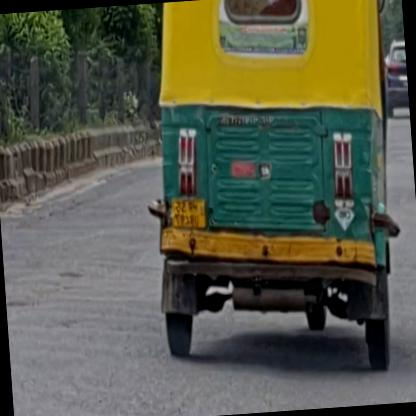car: (380, 38, 410, 121)
